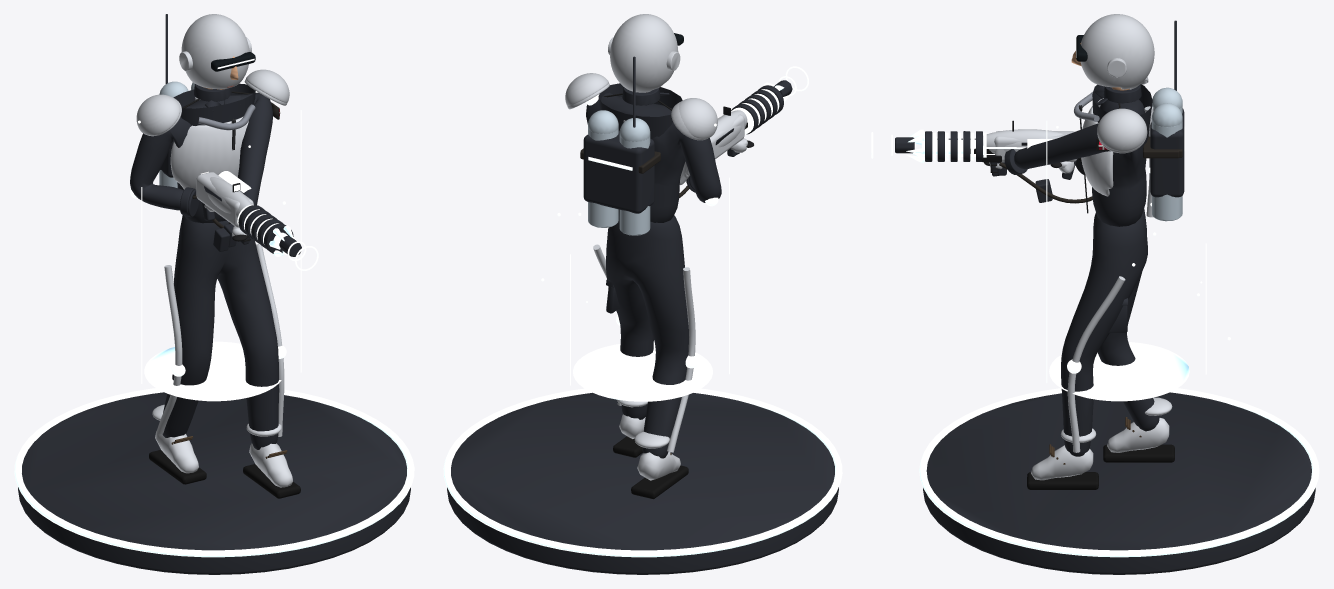
File: frost_krom.glb
3 views of the same model, side by side, from view 1: azimuth 30°, elevation 25°; view 2: azimuth 150°, elevation 25°; view 3: azimuth 270°, elevation 25° (orthographic).
Parts seen in each view (by area): view 1: fod_net, menneske_net, op4.001_net, hoved_net, op2.001_net, vaaben_net, op3.001_net, op4_net, op2_net; view 2: fod_net, menneske_net, op3.001_net, op4.001_net, hoved_net, vaaben_net, op4_net, op2_net, ned3.001_net; view 3: fod_net, menneske_net, op4.001_net, hoved_net, op3.001_net, vaaben_net, op4_net, op2.001_net, op2_net, op1_net, ned1_net.
Boxes of the visible parts, left/top/right/bottom form: fod_net: left=14, top=388, right=414, bottom=574; menneske_net: left=130, top=81, right=300, bottom=498; op4.001_net: left=138, top=110, right=301, bottom=401; hoved_net: left=179, top=14, right=255, bottom=89; op2.001_net: left=170, top=104, right=287, bottom=456; vaaben_net: left=196, top=171, right=296, bottom=253; op3.001_net: left=136, top=14, right=289, bottom=177; op4_net: left=130, top=91, right=286, bottom=436; op2_net: left=207, top=177, right=252, bottom=244; fod_net: left=443, top=388, right=842, bottom=574; menneske_net: left=586, top=83, right=753, bottom=499; op3.001_net: left=565, top=56, right=717, bottom=213; op4.001_net: left=541, top=123, right=729, bottom=401; hoved_net: left=608, top=14, right=683, bottom=92; vaaben_net: left=710, top=85, right=789, bottom=159; op4_net: left=586, top=94, right=718, bottom=452; op2_net: left=714, top=106, right=747, bottom=154; ned3.001_net: left=567, top=83, right=707, bottom=140; fod_net: left=919, top=388, right=1319, bottom=574; menneske_net: left=984, top=84, right=1182, bottom=489; op4.001_net: left=1046, top=120, right=1230, bottom=401; hoved_net: left=1071, top=14, right=1154, bottom=89; op3.001_net: left=1097, top=20, right=1185, bottom=197; vaaben_net: left=906, top=131, right=1081, bottom=179; op4_net: left=1067, top=106, right=1153, bottom=452; op2.001_net: left=1049, top=91, right=1127, bottom=454; op2_net: left=982, top=120, right=1062, bottom=176; op1_net: left=906, top=129, right=1092, bottom=203; ned1_net: left=1052, top=136, right=1179, bottom=464.
Bounding box in the file's own units: 1.94 × 2.54 × 2.17.
